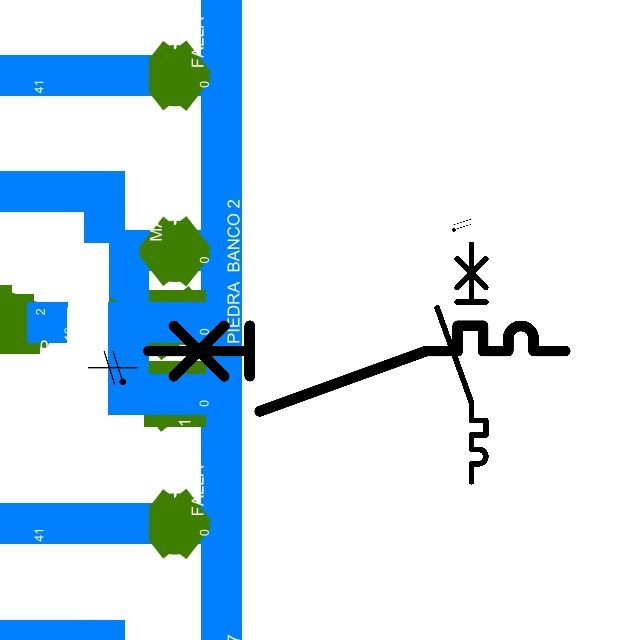interruptor_termomagnetico: (137, 315, 575, 422), (431, 238, 492, 488)
